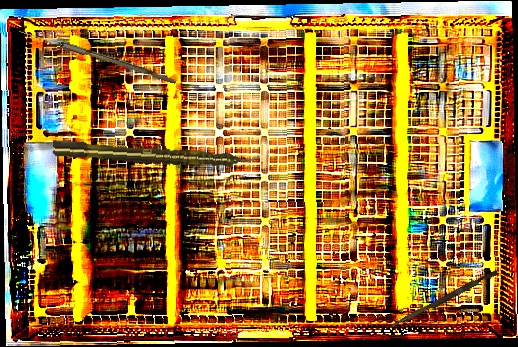Handpiece: (52, 138, 259, 172)
Pusher: (388, 267, 499, 333)
Surgical Spoon: (17, 28, 178, 84)
